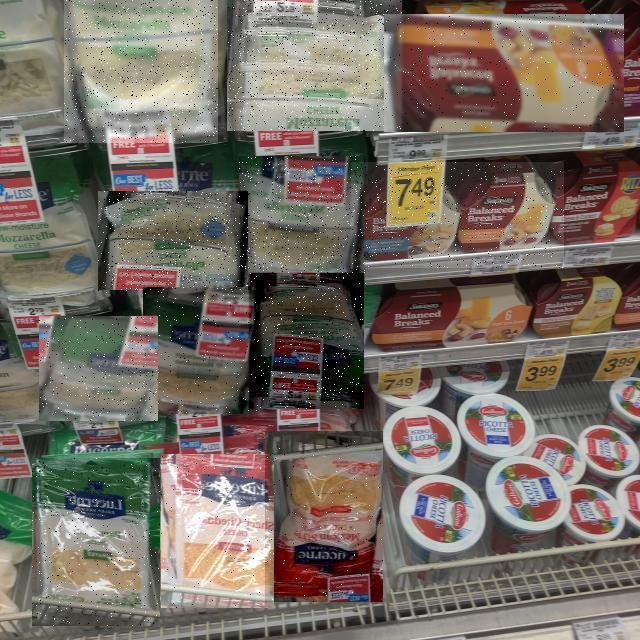Cheese: (385, 15, 625, 133), (227, 0, 402, 131), (355, 162, 565, 268), (64, 0, 218, 143), (32, 458, 160, 626), (265, 431, 383, 602), (161, 454, 274, 608), (240, 156, 368, 286), (98, 192, 248, 294), (253, 273, 365, 409), (144, 290, 258, 414), (39, 316, 158, 421)
